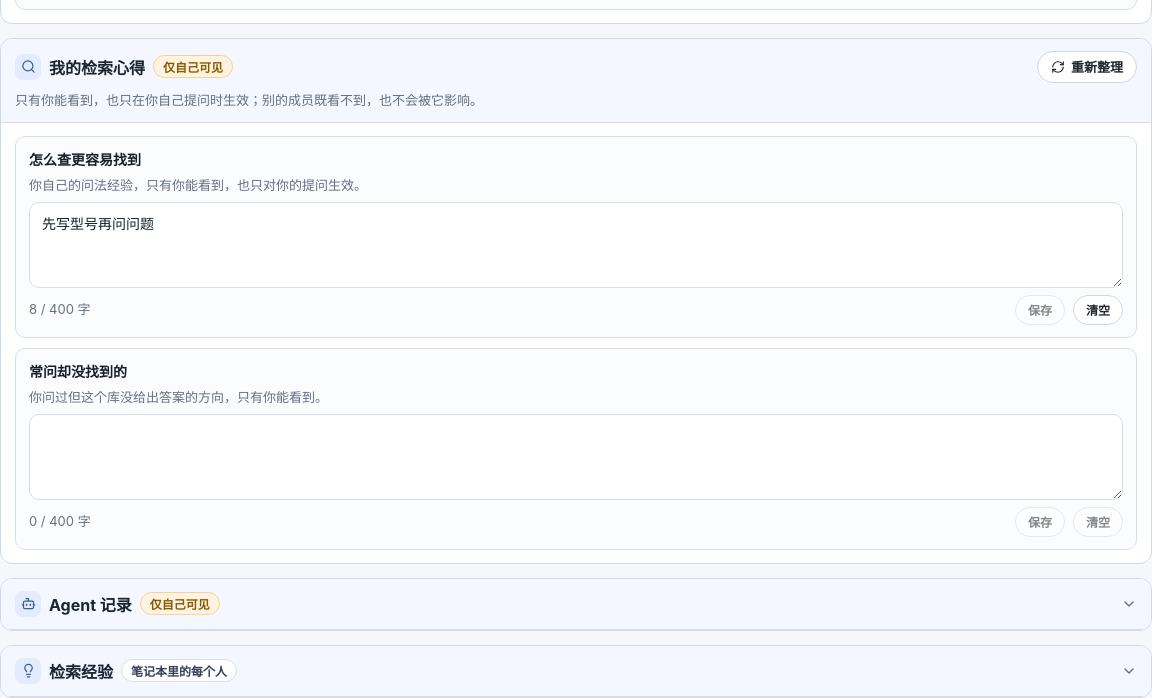
Agent 记录：条数恰好达到服务端上限时提示「仅显示最近 20 条」，没达到时不提示
(page scrolled)
Click the text "Agent 记录": [90, 604] box left=49, top=592, right=132, bottom=616
(page scrolled)
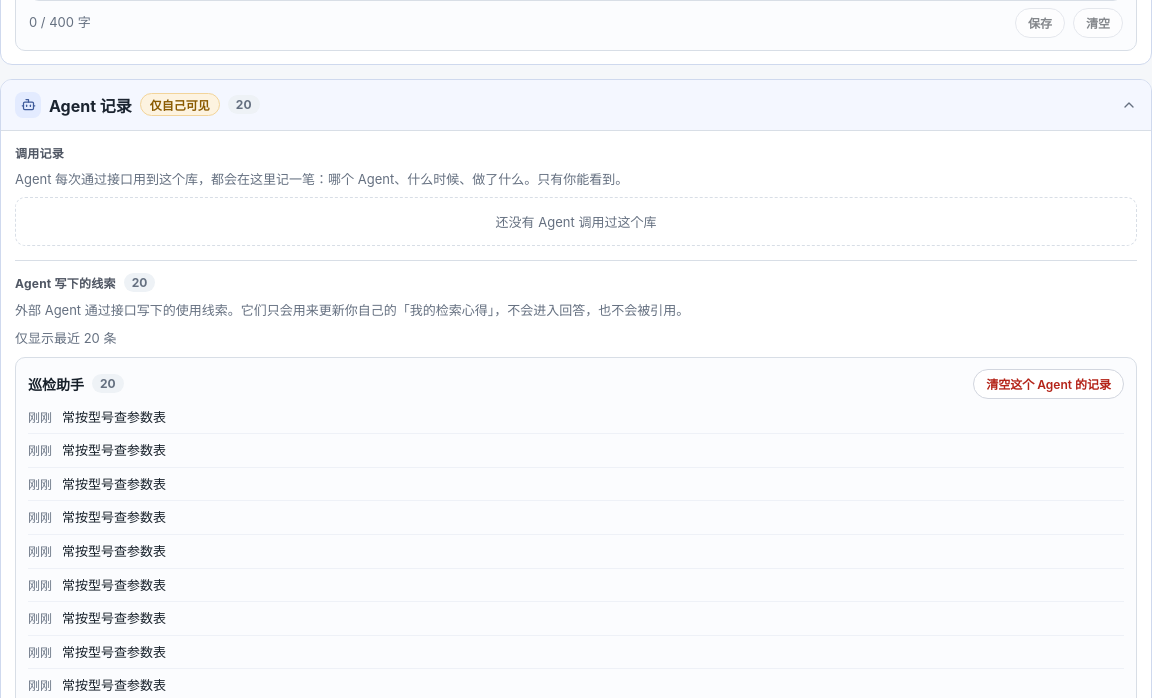
Result: the text "仅显示最近 20 条" is shown at left=15, top=330, right=116, bottom=346
